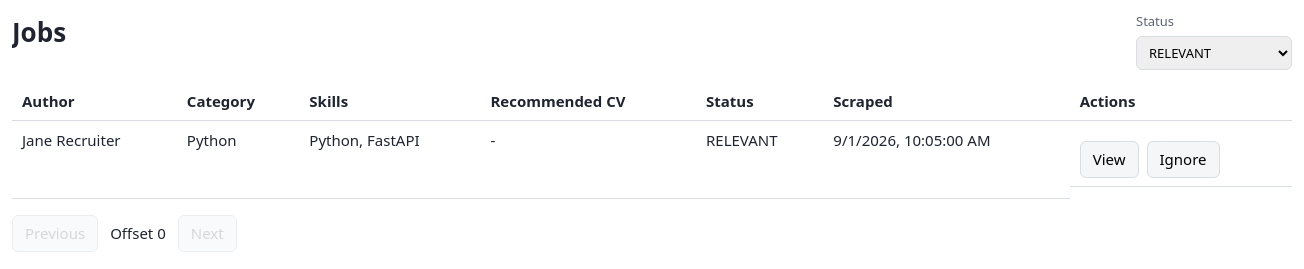
Scenario: JobList › ignores a job via the API and removes it once it no longer matches the filter
The image size is (1304, 269).
Expected: the text "Jane Recruiter" is shown, [12,120,177,198]
Click the button "Ignore" at point(1183, 159), box [1146,141,1220,178]
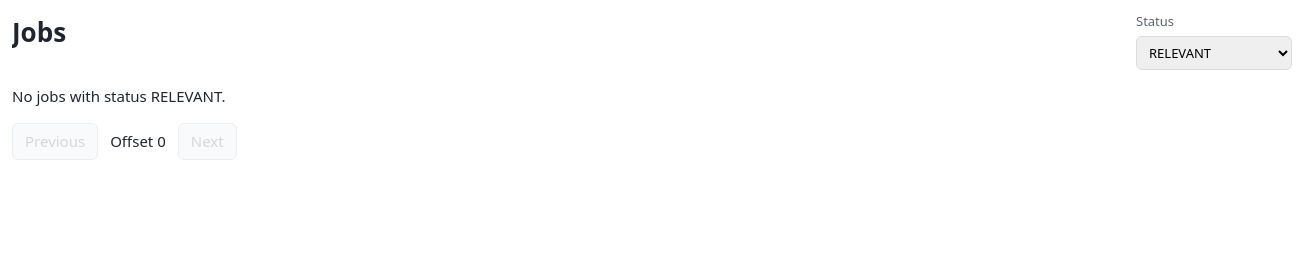
Now the text "Jane Recruiter" is gone
